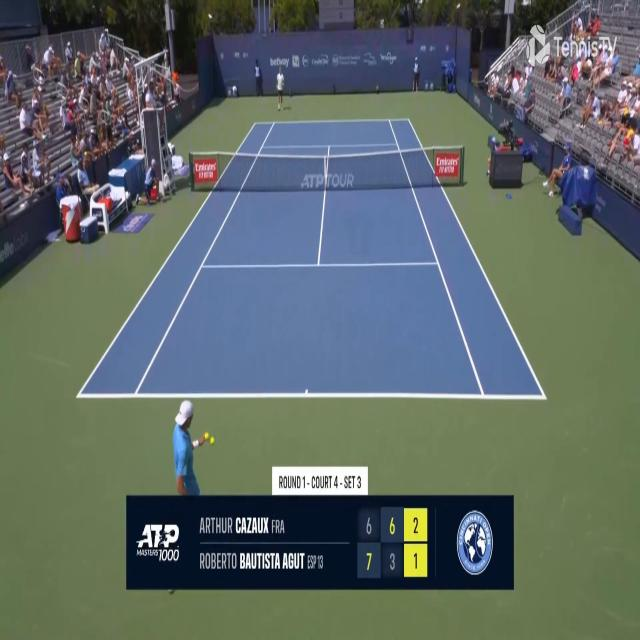tennis-player: (172, 397, 217, 496), (275, 68, 287, 112)
